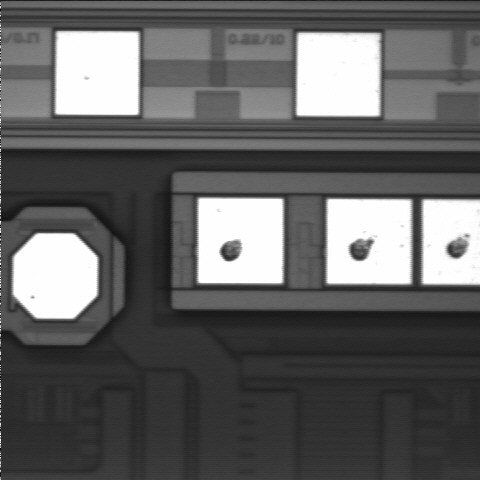pad: (198, 198, 283, 283), (13, 233, 97, 319), (327, 199, 411, 284), (56, 31, 139, 115), (297, 33, 380, 116)
